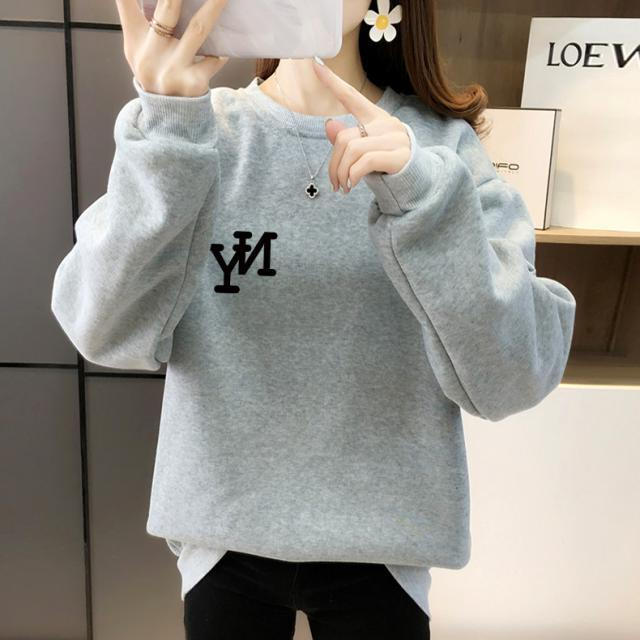sweater: (48, 84, 580, 567)
trousers: (179, 548, 437, 640)
